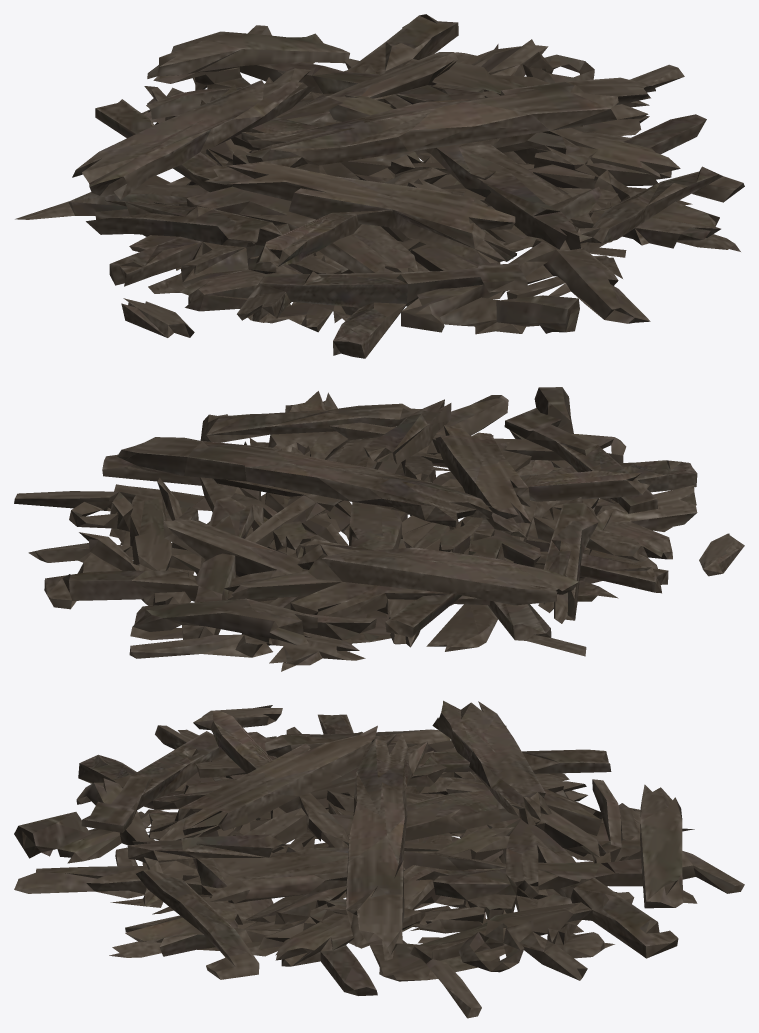
The model's file is wood_rubble.glb.
3 renders of one model, top to bottom at view 1: azimuth 30°, elevation 25°; view 2: azimuth 150°, elevation 25°; view 3: azimuth 270°, elevation 25°, orthographic. The views are drawn at different scales.
Visible parts, largest first — view 1: output_unwrapped; view 2: output_unwrapped; view 3: output_unwrapped.
Part boxes in pixels (<box>): output_unwrapped: <box>15,14,744,358</box>; output_unwrapped: <box>14,387,744,671</box>; output_unwrapped: <box>14,700,744,1018</box>.
Size of the model in its own units: 1.84 by 0.2112 by 1.88.
1 material, 1 textured.
